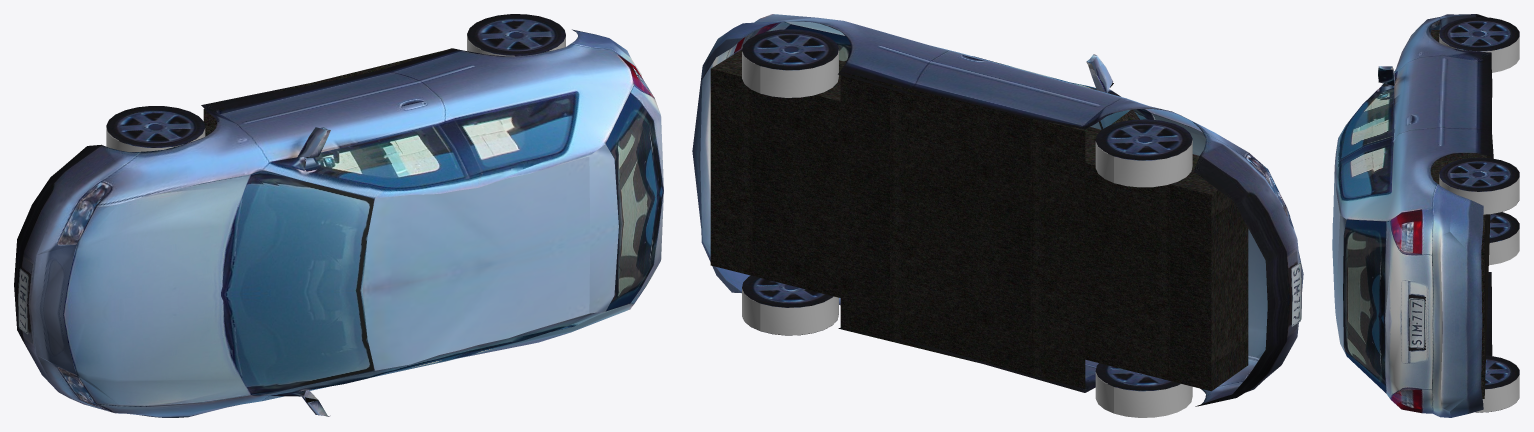
The model's file is Car_01.obj.
3 renders of one model, left to right at view 1: azimuth 30°, elevation 25°; view 2: azimuth 150°, elevation 25°; view 3: azimuth 270°, elevation 25°, orthographic. The views are drawn at different scales.
Parts seen in each view (by area): view 1: _1body, _1tyres, _1fill, _1tyresurf, _1plates; view 2: _1fill, _1body, _1tyresurf, _1tyres, _1plates; view 3: _1body, _1tyres, _1tyresurf, _1fill, _1plates.
Part boxes in pixels (left/top/right/bottom): _1body: left=14, top=29, right=663, bottom=417; _1tyres: left=106, top=14, right=565, bottom=147; _1fill: left=86, top=48, right=452, bottom=225; _1tyresurf: left=106, top=34, right=565, bottom=151; _1plates: left=18, top=268, right=28, bottom=334; _1fill: left=710, top=49, right=1248, bottom=391; _1body: left=692, top=14, right=1303, bottom=406; _1tyresurf: left=742, top=50, right=1192, bottom=417; _1tyres: left=742, top=29, right=1192, bottom=391; _1plates: left=1291, top=262, right=1302, bottom=326; _1body: left=1332, top=14, right=1493, bottom=417; _1tyres: left=1439, top=17, right=1519, bottom=412; _1tyresurf: left=1439, top=34, right=1519, bottom=412; _1fill: left=1394, top=30, right=1490, bottom=398; _1plates: left=1408, top=298, right=1424, bottom=348.
Bounding box in the file's own units: 4.29 × 1.93 × 1.39.
